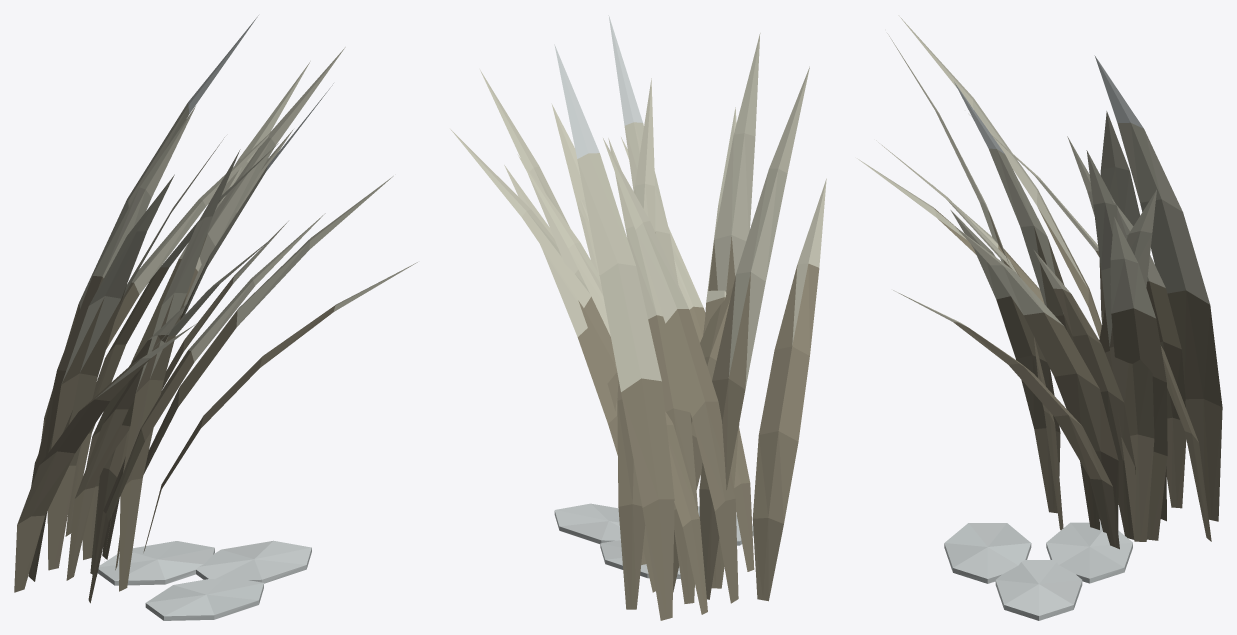
The model's file is grass_tuft_f_winter.glb.
3 views of the same model, side by side, from view 1: azimuth 30°, elevation 25°; view 2: azimuth 150°, elevation 25°; view 3: azimuth 270°, elevation 25° (orthographic). The views are drawn at different scales.
Visible parts, largest first — view 1: geometry; view 2: geometry; view 3: geometry.
Boxes of the visible parts, <box> form: geometry: <box>14,15,417,620</box>; geometry: <box>450,15,826,620</box>; geometry: <box>857,15,1222,620</box>.
Bounding box in the file's own units: 0.22 × 0.34 × 0.2037.
